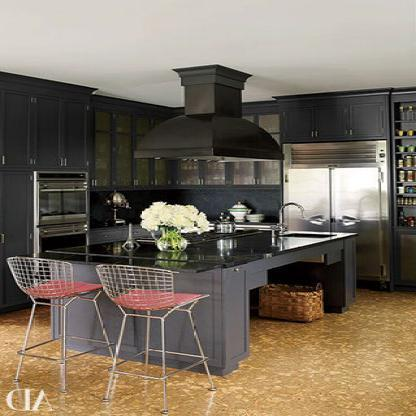chair: (95, 258, 213, 413), (5, 257, 98, 393)
table: (55, 222, 351, 369)
